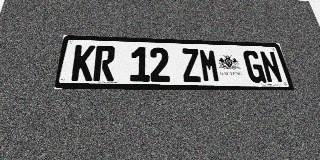1: (130, 47, 150, 82)
2: (150, 47, 170, 82)
G: (242, 50, 267, 83)
K: (71, 45, 96, 81)
M: (198, 49, 221, 82)
N: (259, 51, 284, 83)
R: (93, 45, 116, 81)
Z: (181, 48, 202, 82)
